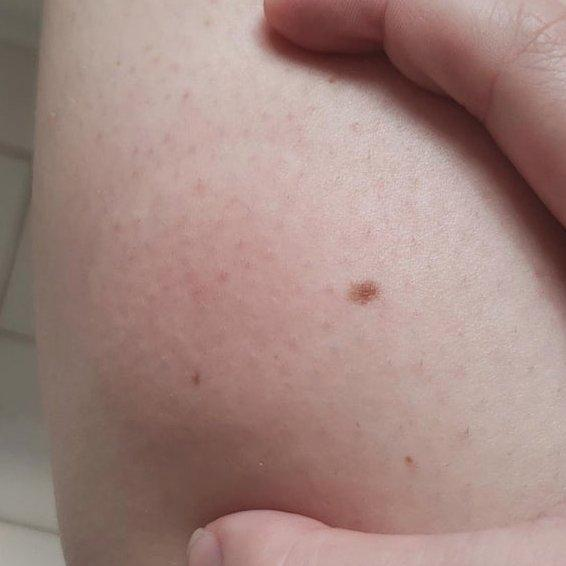Mosquito: (110, 200, 347, 400)
